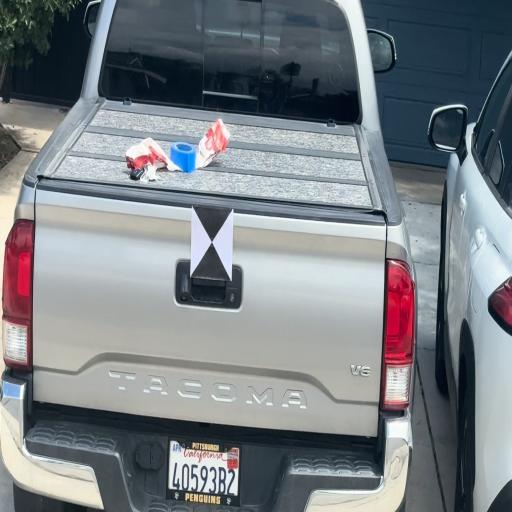target: (190, 205, 233, 280)
